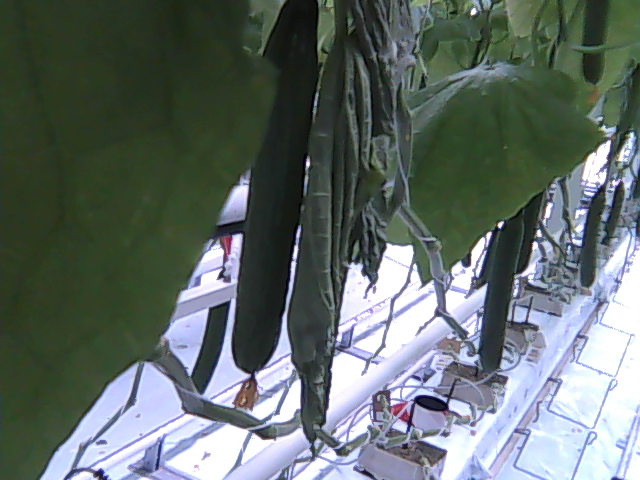concombre: (230, 1, 322, 413), (478, 213, 528, 378)
